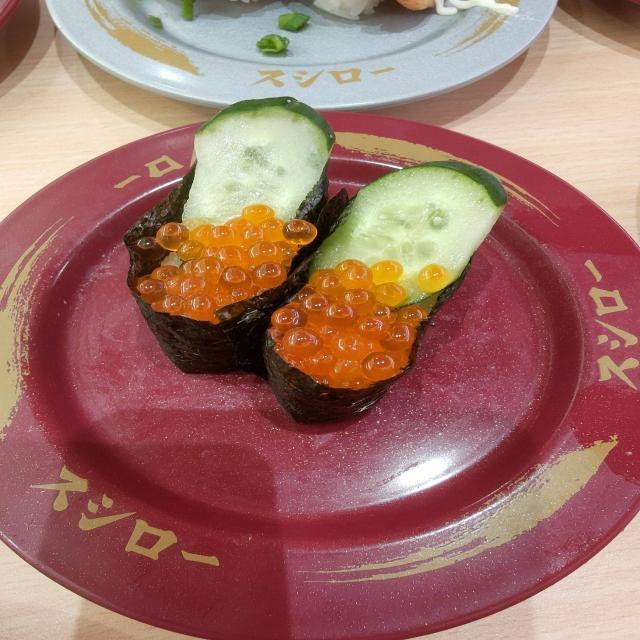janred: (0, 146, 640, 594), (0, 6, 80, 127)
janwoven: (50, 0, 569, 109)
